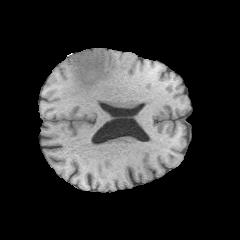glioma: (72, 48, 109, 95)
